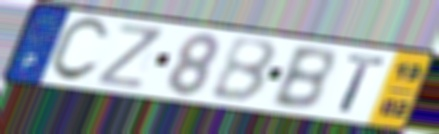8: (165, 31, 222, 98)
B: (208, 37, 280, 105), (267, 46, 336, 113)
C: (45, 16, 111, 84)
T: (337, 52, 389, 116)
Z: (94, 21, 166, 92)
